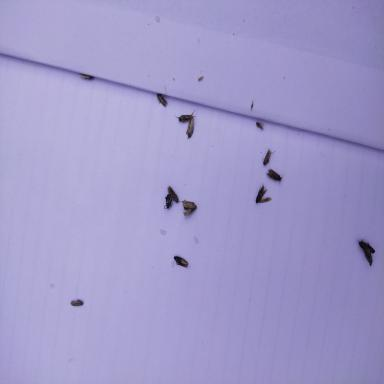pbw: (357, 238, 375, 266), (255, 182, 272, 203), (266, 166, 284, 185), (174, 108, 197, 122), (166, 186, 184, 203), (182, 200, 196, 219), (262, 148, 276, 166), (186, 115, 196, 139), (156, 94, 168, 108), (174, 256, 188, 268), (164, 193, 172, 209), (70, 299, 83, 307), (78, 73, 94, 79), (256, 121, 264, 131)
